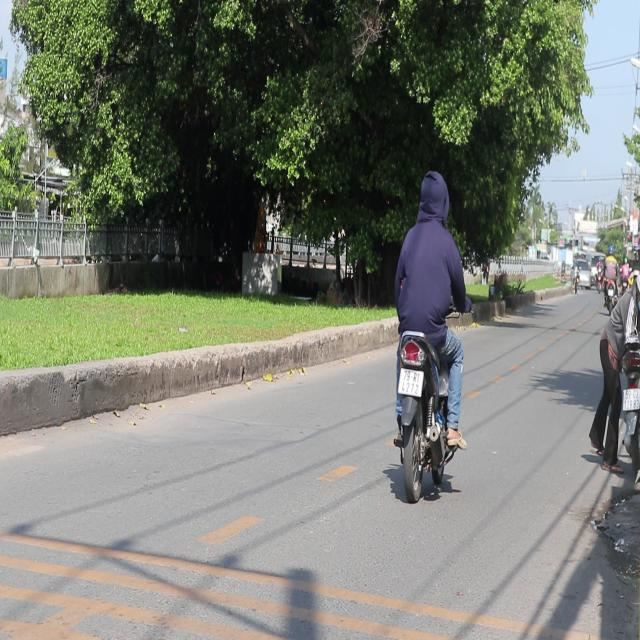helmet: (415, 168, 450, 222)
licenseplate: (386, 168, 470, 500)
nohelmet: (397, 368, 424, 398), (622, 388, 640, 410)
